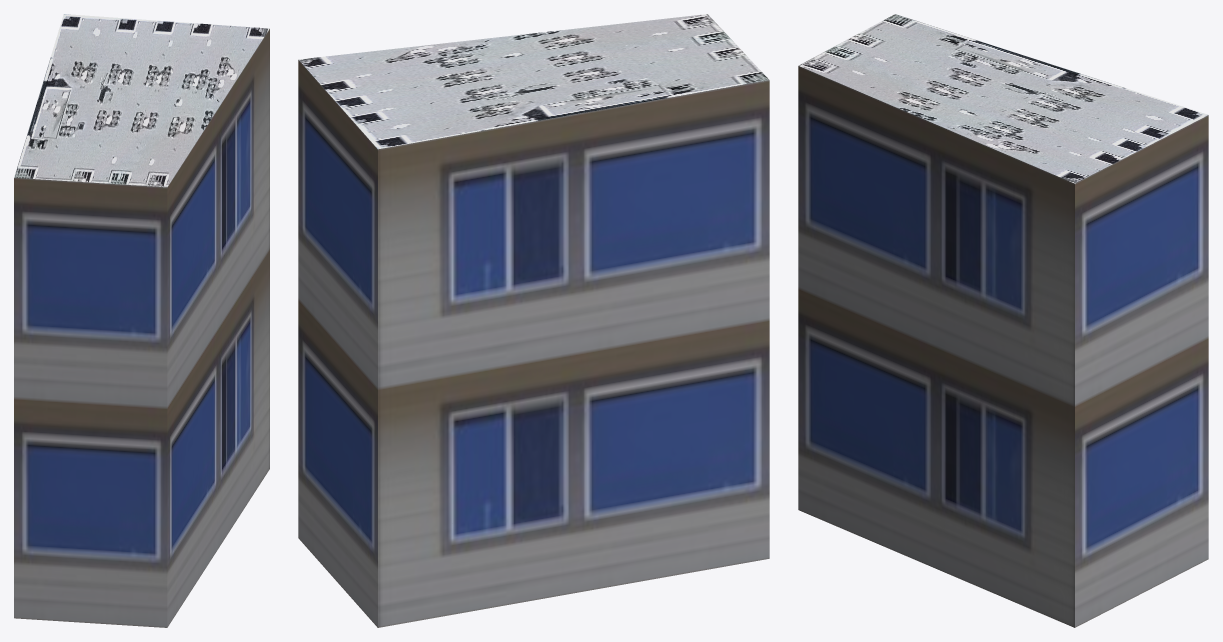
Rendered from ResTex__2426.fbx.
3 views of the same model, side by side, from view 1: azimuth 30°, elevation 25°; view 2: azimuth 150°, elevation 25°; view 3: azimuth 270°, elevation 25° (orthographic). The views are drawn at different scales.
Parts seen in each view (by area): view 1: CityEngineMaterial_23_m, CityEngineMaterial_8_m; view 2: CityEngineMaterial_23_m, CityEngineMaterial_8_m; view 3: CityEngineMaterial_23_m, CityEngineMaterial_8_m.
Part boxes in pixels (left/top/right/bottom): CityEngineMaterial_23_m: left=14, top=29, right=269, bottom=627; CityEngineMaterial_8_m: left=14, top=14, right=269, bottom=187; CityEngineMaterial_23_m: left=298, top=60, right=769, bottom=627; CityEngineMaterial_8_m: left=298, top=14, right=769, bottom=149; CityEngineMaterial_23_m: left=798, top=66, right=1208, bottom=627; CityEngineMaterial_8_m: left=798, top=14, right=1207, bottom=183.
Bounding box in the file's own units: 4.91 × 6 × 5.03.
2 materials, 2 textured.
